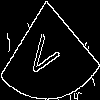V: (25, 25, 65, 83)
